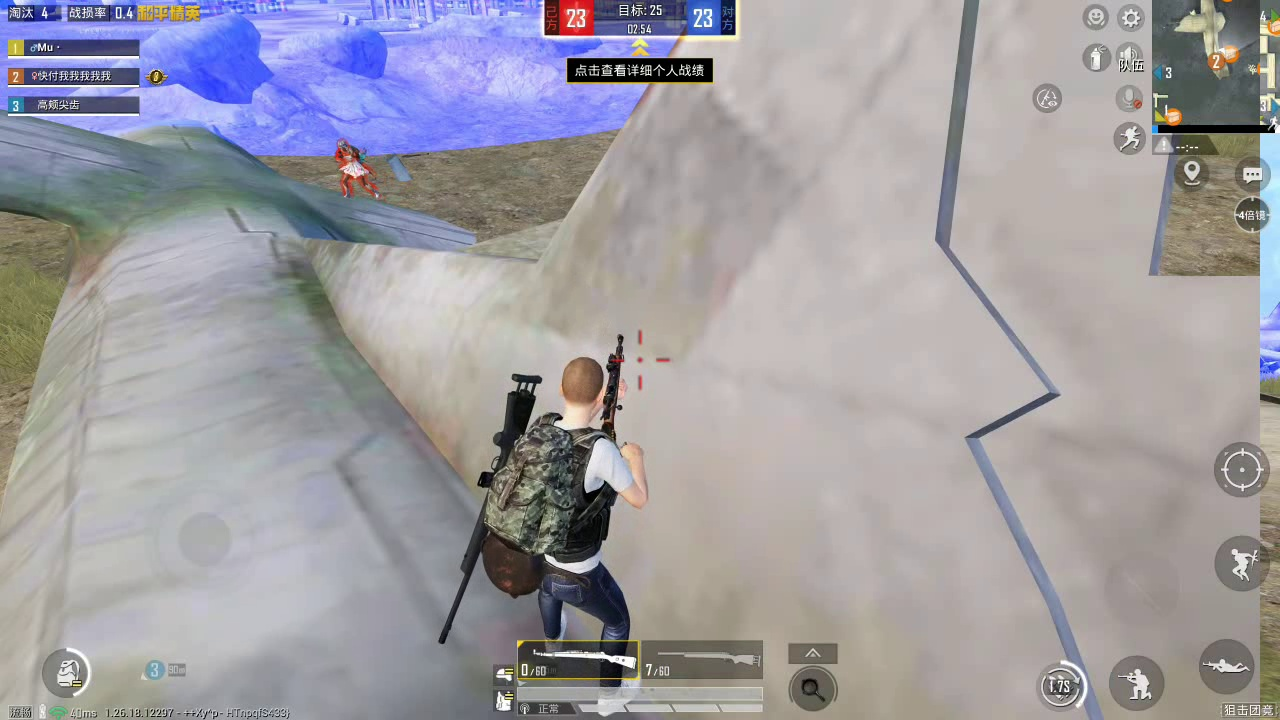enemy: (333, 139, 380, 201)
